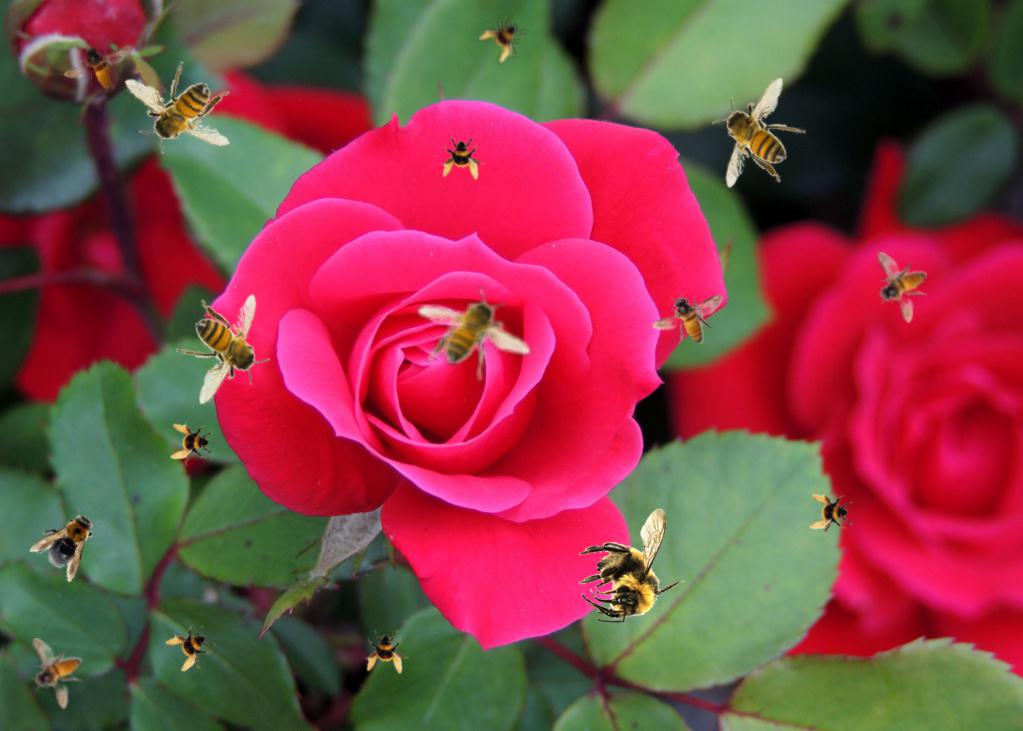Bee: (117, 55, 238, 161), (415, 283, 534, 387), (578, 508, 685, 623), (712, 77, 806, 188), (176, 294, 270, 405), (27, 497, 111, 583), (473, 7, 537, 71), (161, 617, 223, 679), (32, 638, 82, 709), (877, 252, 927, 323), (652, 294, 723, 344), (62, 43, 133, 93), (170, 422, 214, 466), (809, 492, 853, 536), (365, 630, 409, 674), (441, 136, 485, 180)
